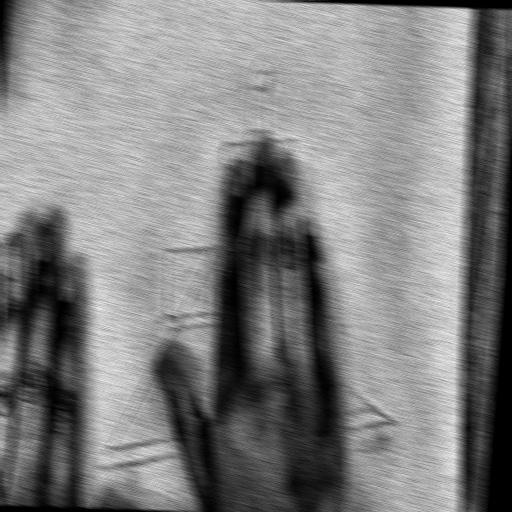eiffel-tower: (86, 14, 408, 486)
